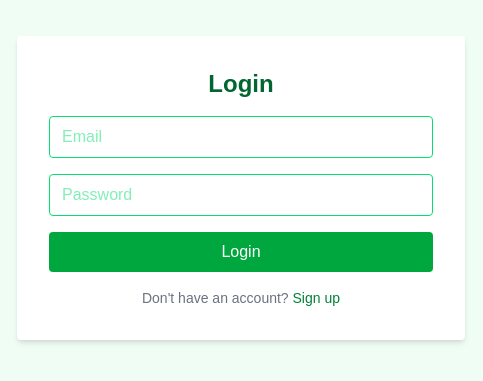
Test: LoginPage › shows error when signIn fails
Type "a@b.com" into the field with placeholder "Email" at (241, 137), box [49, 116, 433, 158]
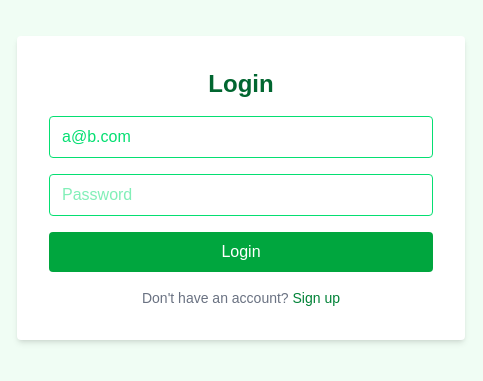
Type "wrong" into the password field with placeholder "Password" at (241, 195), box [49, 174, 433, 216]
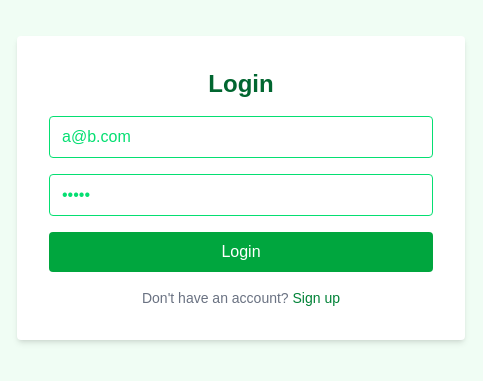
Click the button "Login" at (241, 252), box [49, 232, 433, 272]
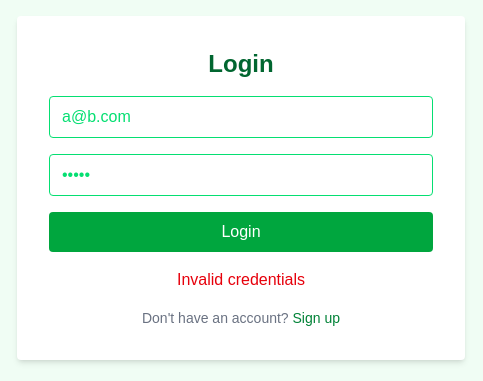
Check: the text "Invalid credentials" is shown, box [177, 271, 305, 288]
